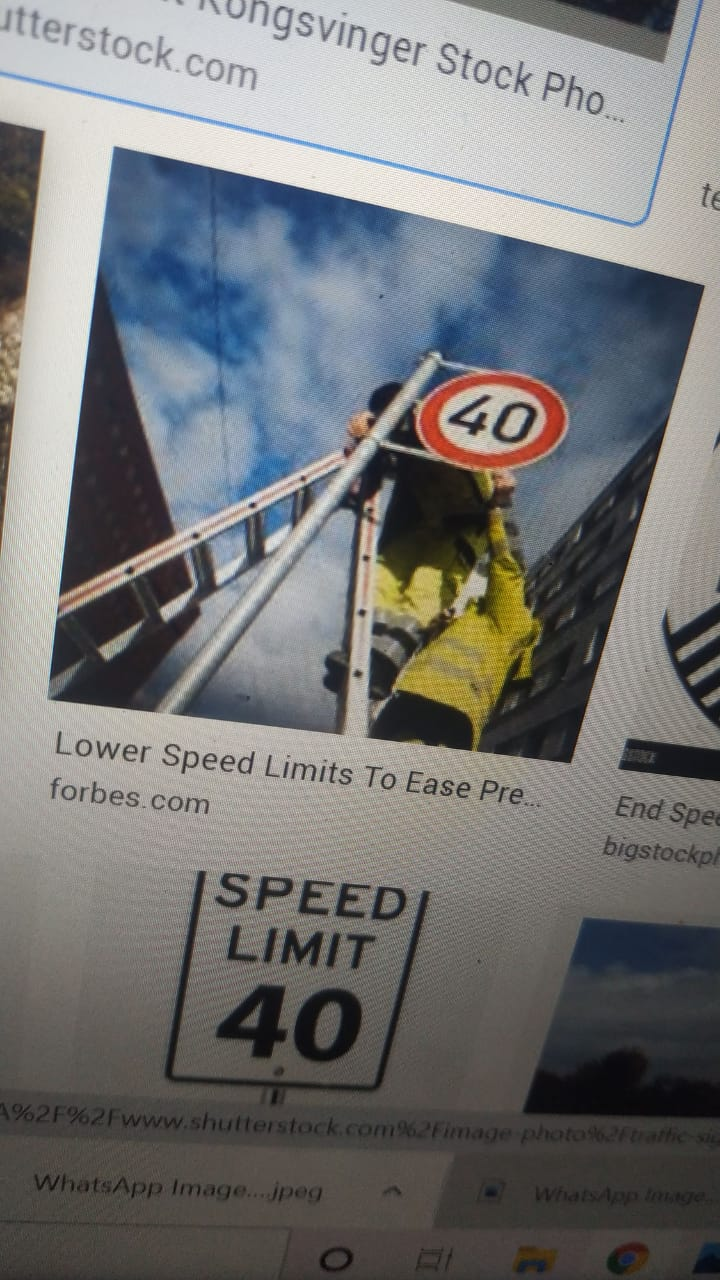SPEED LIMIT (40 KM/H): (168, 833, 416, 1100), (410, 326, 574, 475)
